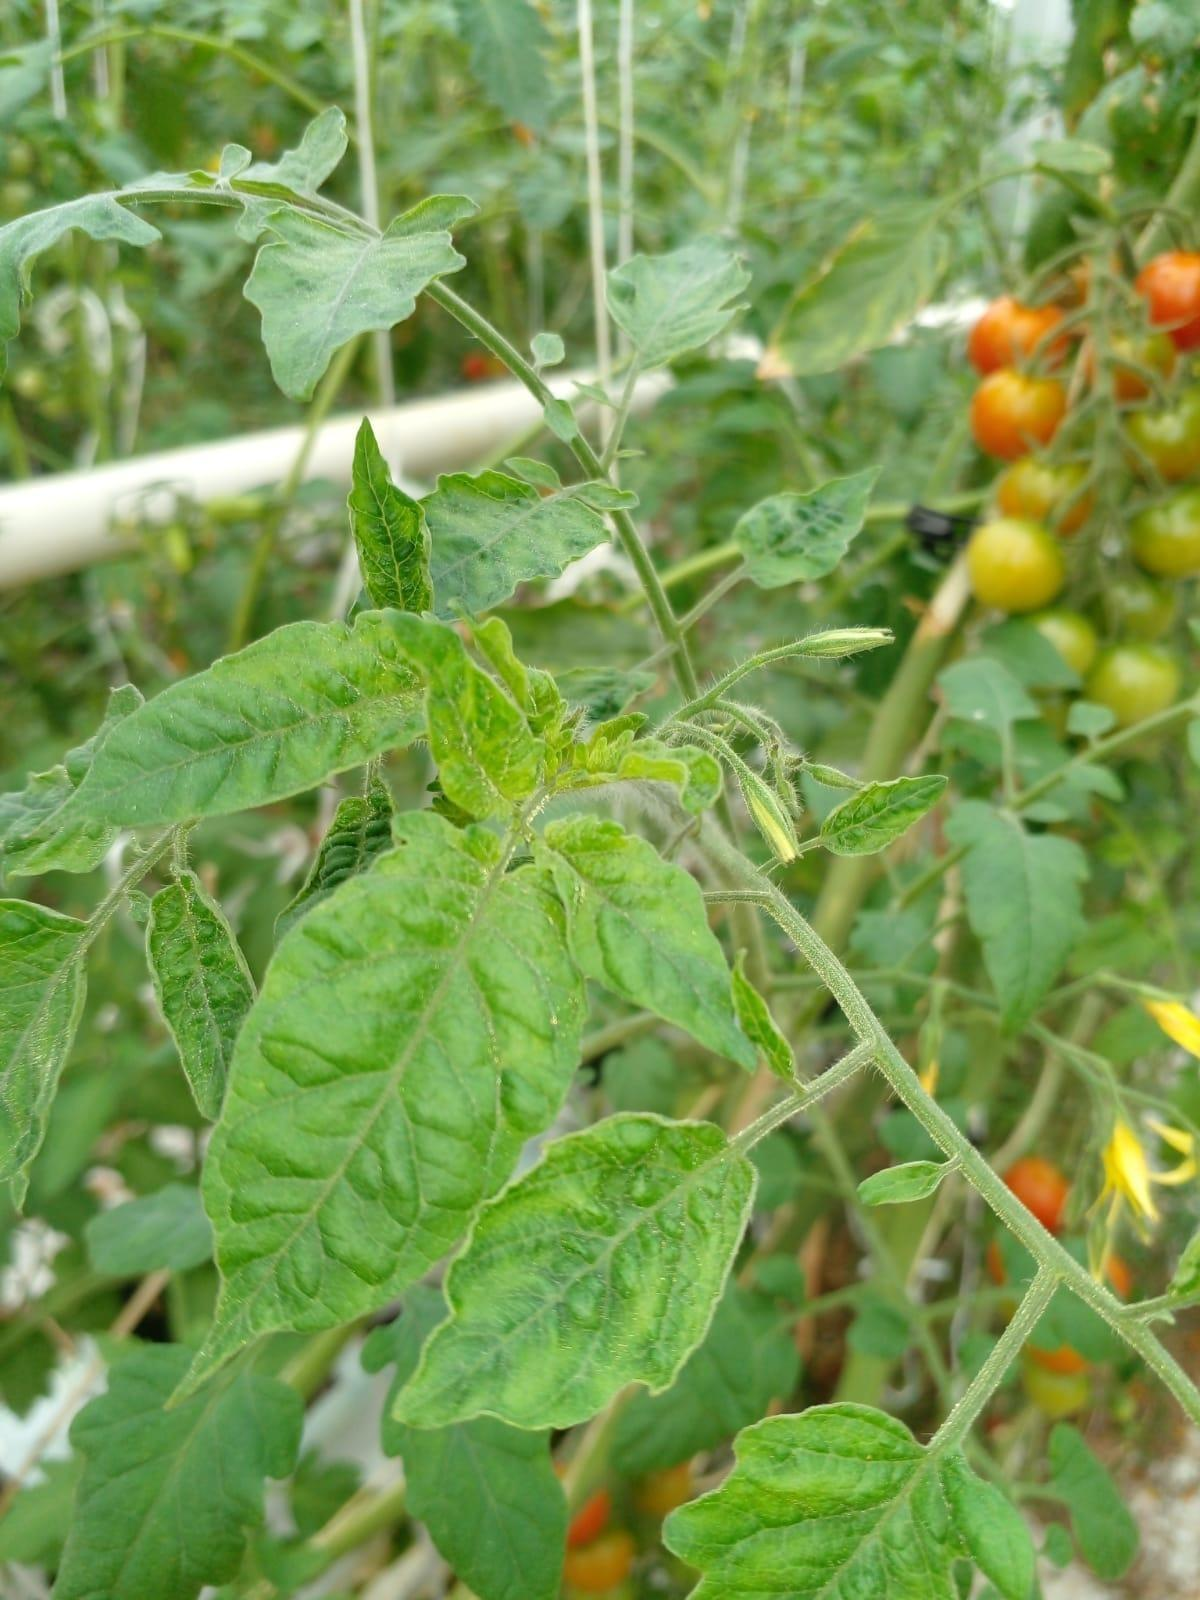Hoja: (187, 813, 584, 1383), (53, 621, 424, 826), (534, 816, 755, 1068), (243, 209, 465, 401)
Hoja rugoso: (397, 1112, 755, 1427), (662, 1406, 1035, 1599), (384, 612, 543, 819), (147, 872, 256, 1119), (0, 900, 87, 1202), (556, 716, 722, 815), (347, 418, 431, 612), (822, 775, 947, 857)
Pedunculo rugoso: (722, 884, 1197, 1406), (950, 1144, 1197, 1419), (928, 1274, 1059, 1451)
